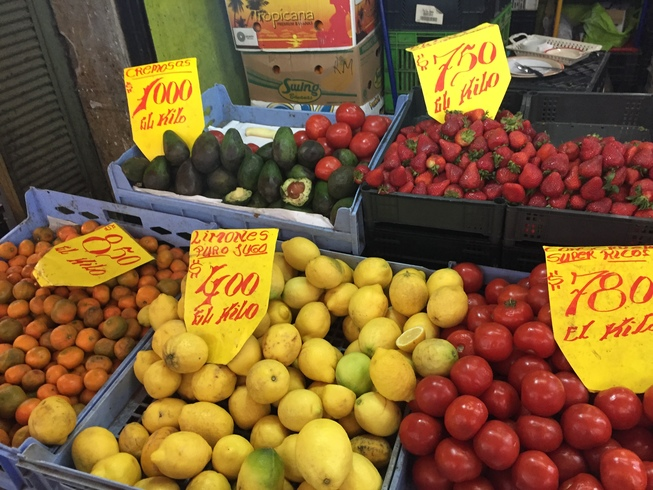precio: (545, 240, 653, 391), (192, 225, 287, 361), (409, 26, 509, 135), (35, 219, 161, 298), (123, 60, 208, 166)
